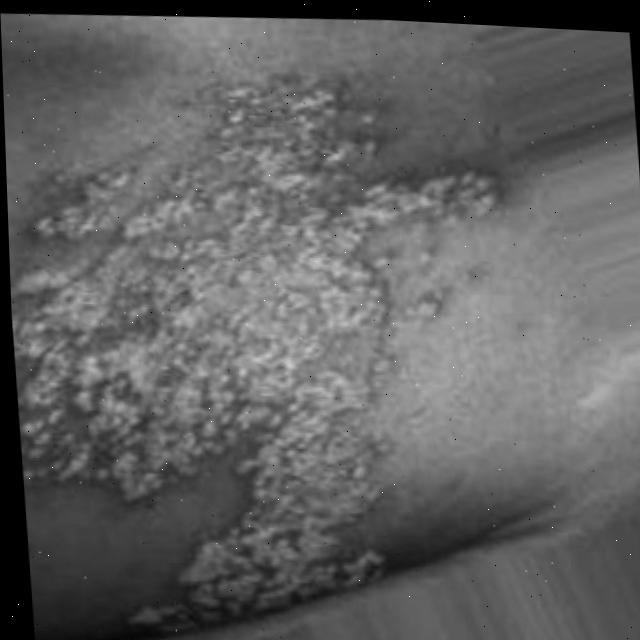Shingles: (2, 42, 528, 640)
